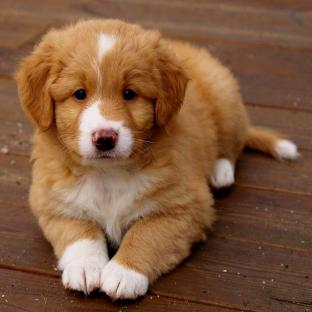Animal: (16, 19, 298, 300)
